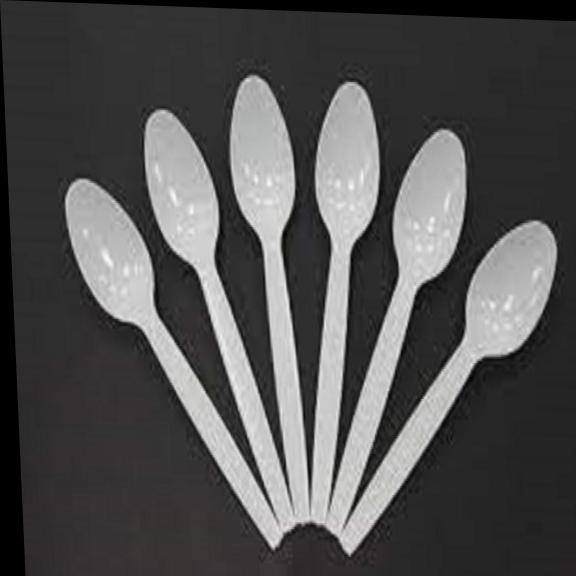Plastik: (66, 180, 282, 546), (339, 222, 557, 553), (145, 110, 294, 530), (328, 131, 466, 534), (230, 75, 309, 521), (312, 83, 380, 524)
